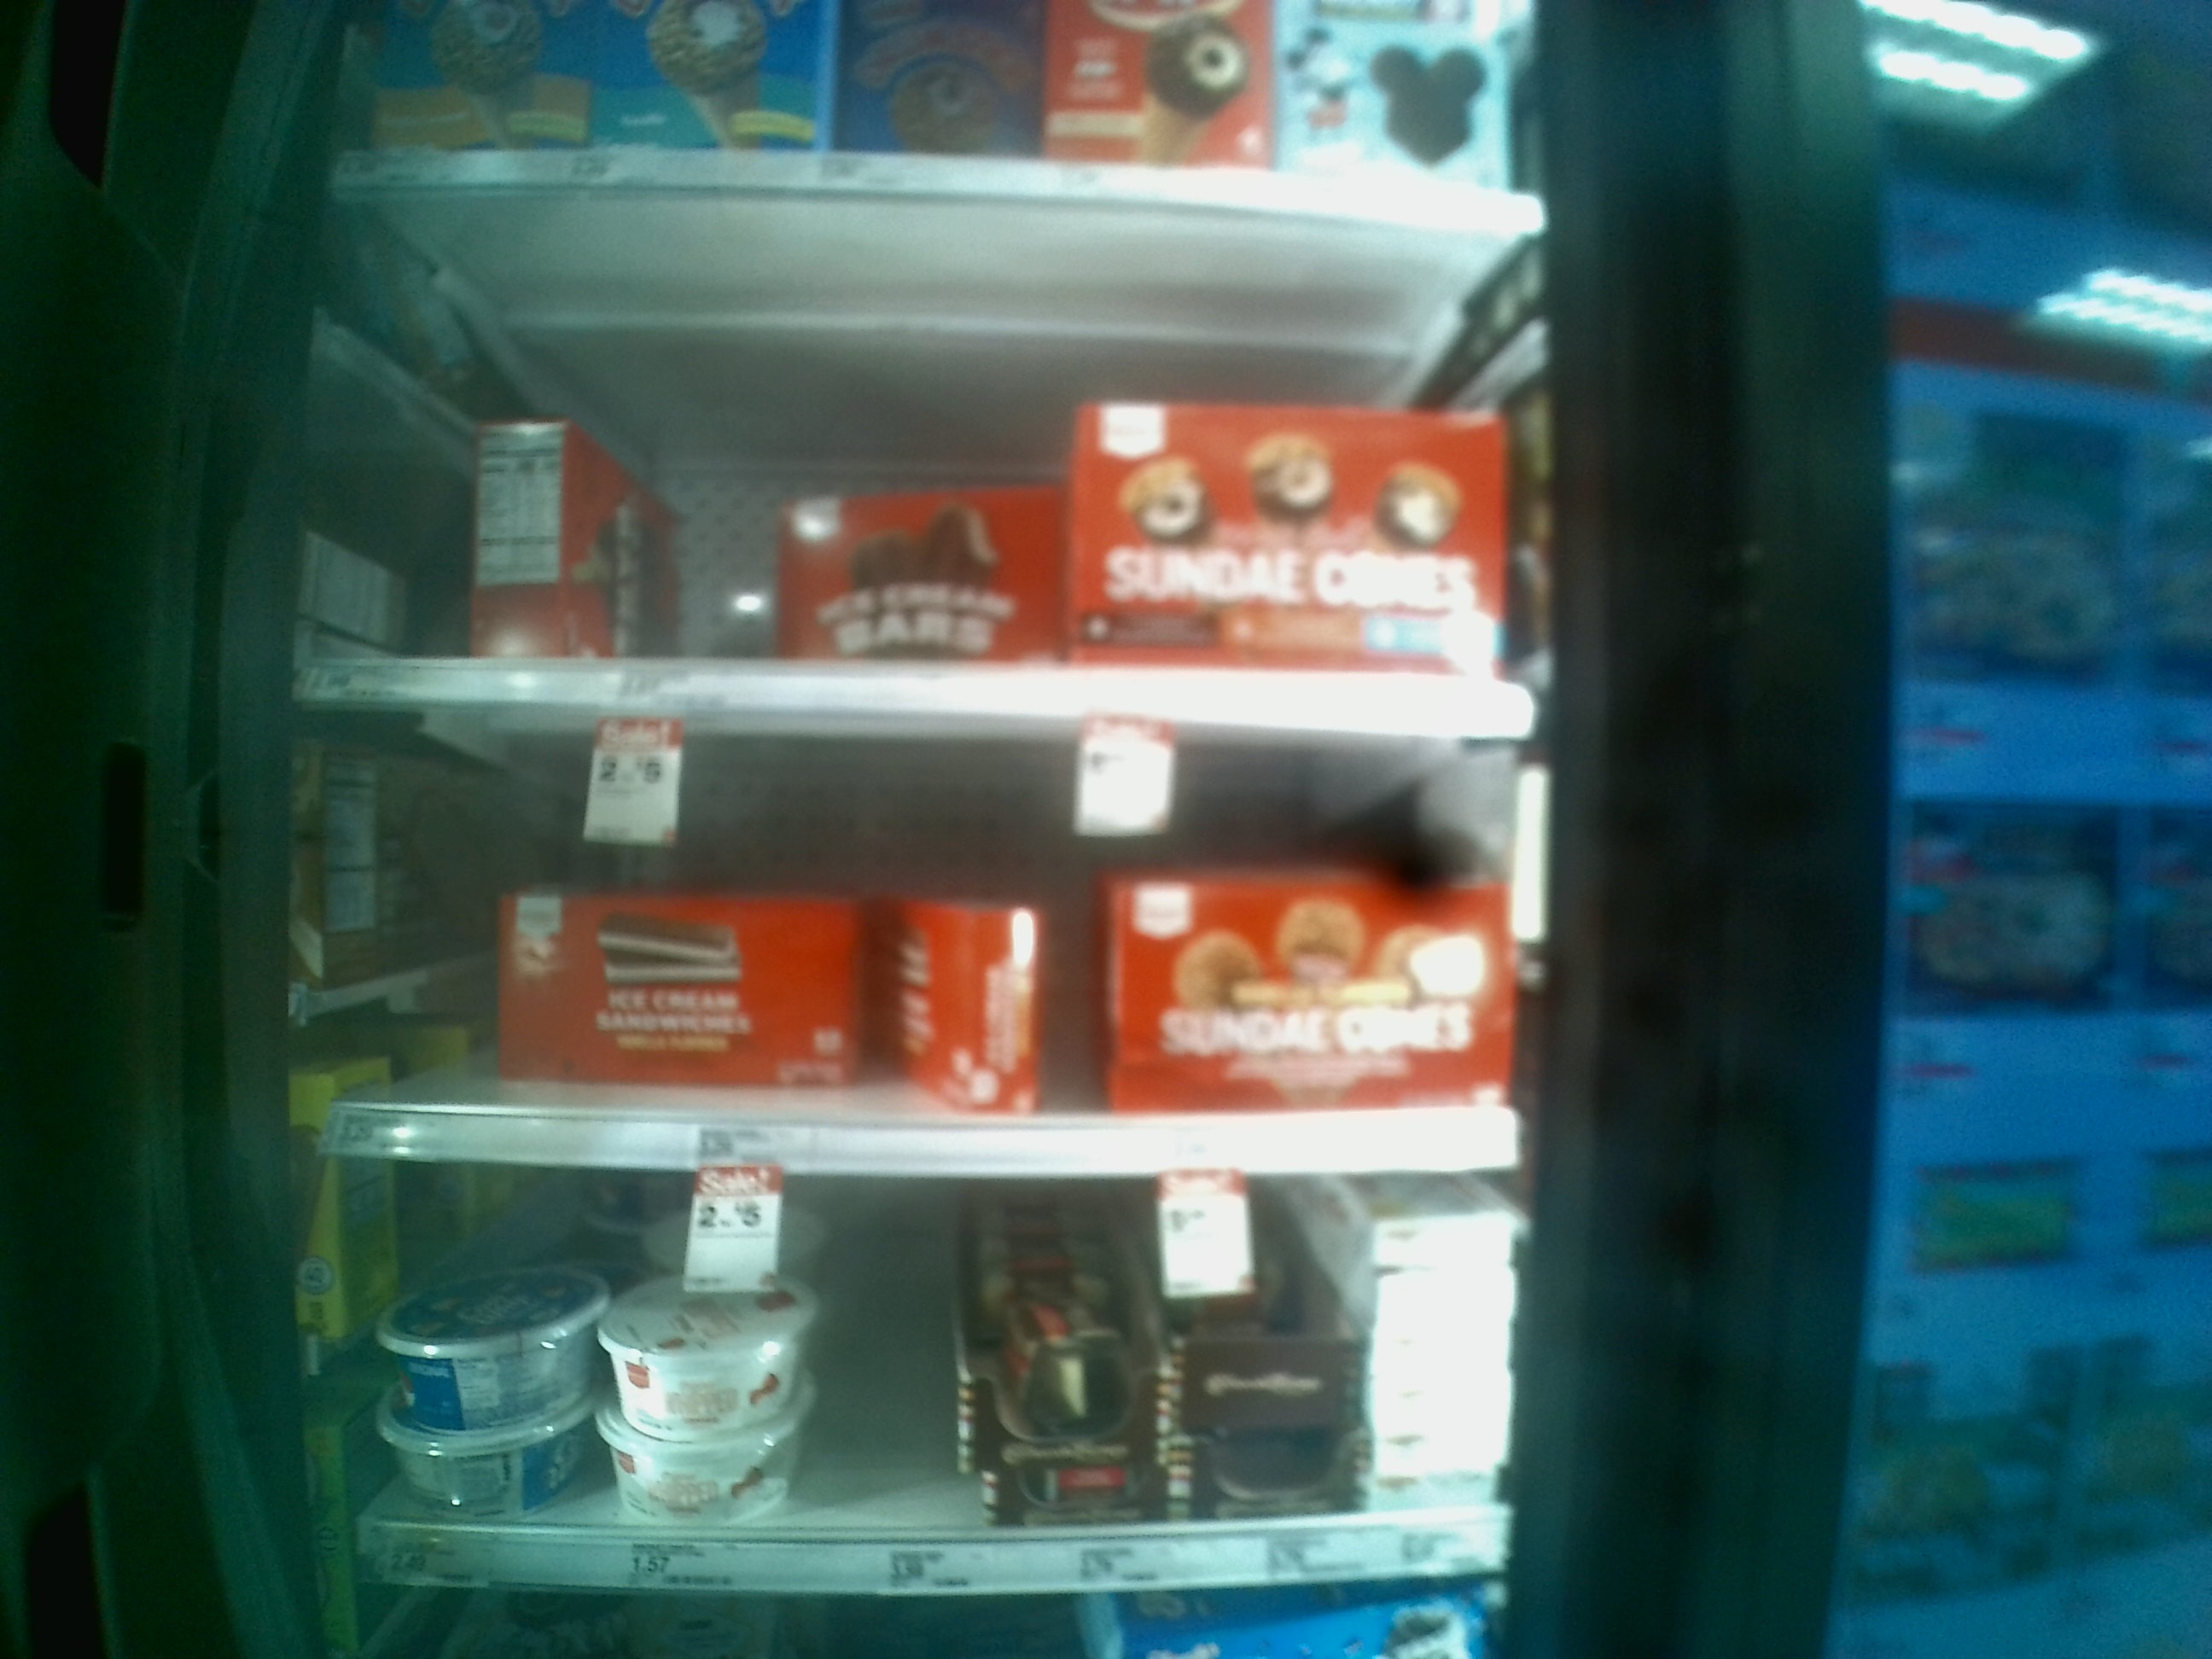frozen-food-shelf: (307, 697, 1554, 1180), (298, 1188, 1576, 1601)
